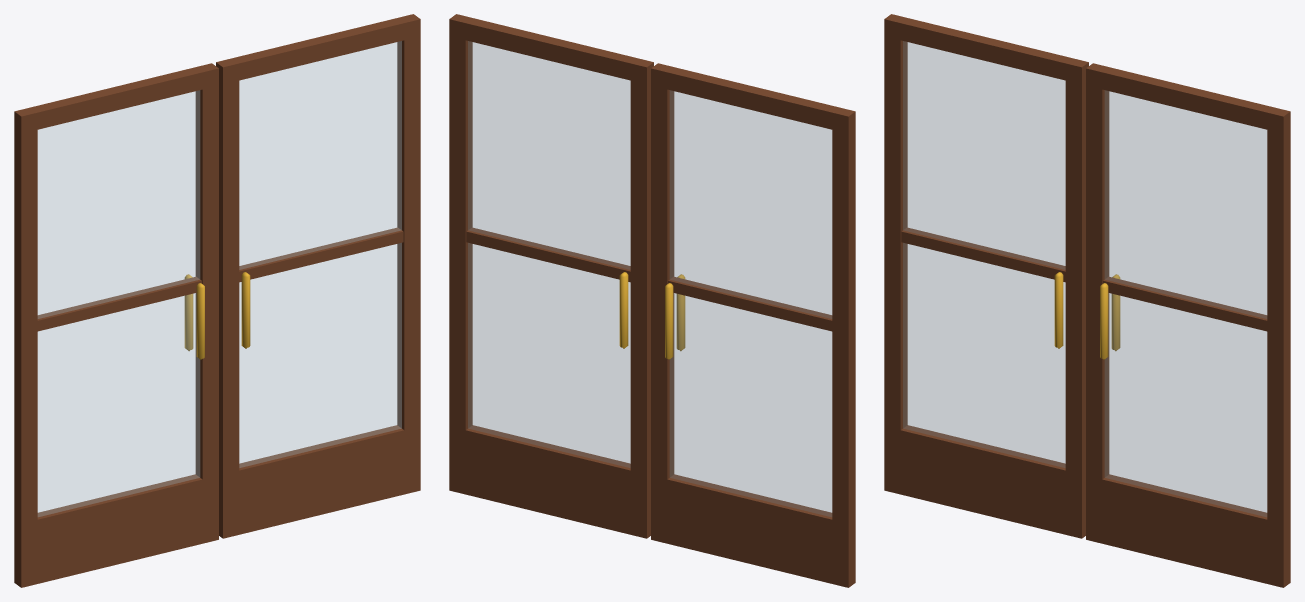
File: glass_door.glb
The picture shows the model from 3 angles, left to right: view 1: azimuth 30°, elevation 25°; view 2: azimuth 150°, elevation 25°; view 3: azimuth 330°, elevation 25°; orthographic projection.
Parts seen in each view (by area): view 1: leaf_l, leaf_r; view 2: leaf_l, leaf_r; view 3: leaf_r, leaf_l.
Part boxes in pixels (x1,y1,x2,y2): leaf_l: [14, 63, 250, 587]; leaf_r: [184, 14, 420, 538]; leaf_l: [619, 63, 855, 587]; leaf_r: [449, 14, 685, 538]; leaf_r: [1054, 63, 1290, 587]; leaf_l: [884, 14, 1120, 538].
Size of the model in its own units: 1.95 by 2.2 by 0.14.
Materials: 2 (1 with a texture image).
